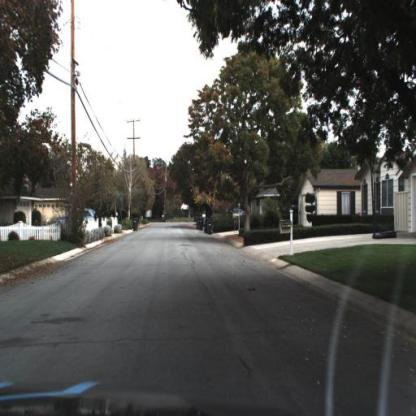car: (59, 206, 104, 230)
